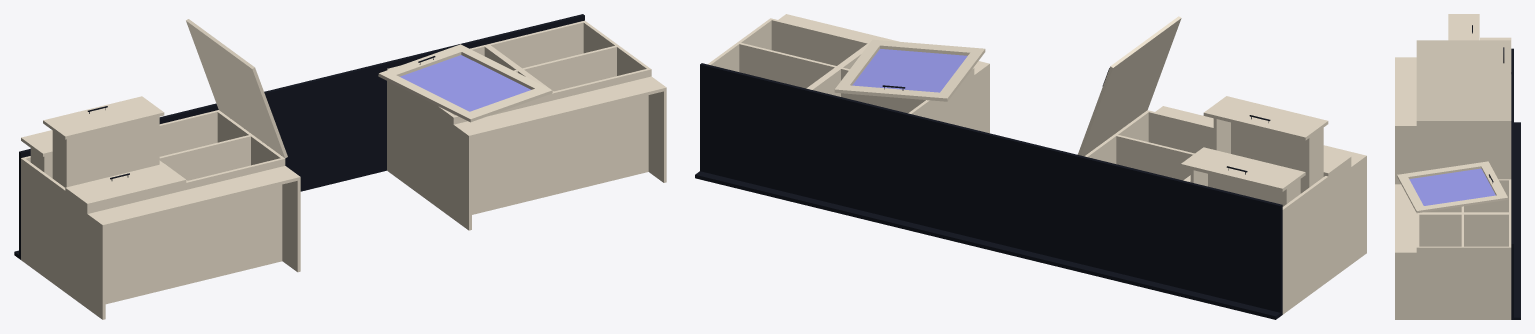
Rendered from cabinetskirik.fbx.
The picture shows the model from 3 angles, left to right: view 1: azimuth 30°, elevation 25°; view 2: azimuth 150°, elevation 25°; view 3: azimuth 270°, elevation 25°; orthographic projection. The views are drawn at different scales.
Parts seen in each view (by area): view 1: Cabinet4, Cabinet1, Cabinet2, Cabinet3, Countertop3, Drawer.001, Cabinet3_Door, Cabinet2_Door, Baseboard1, Baseboard3, Baseboard2, Baseboard4 (+3 smaller); view 2: Countertop3, Countertop1, Countertop4, Countertop2, Cabinet1, Drawer.001, Cabinet3_Door, Cabinet4, Cabinet2_Door, Cabinet2, Drawer.002, Cabinet3 (+5 smaller); view 3: Cabinet4, Cabinet2_Door, Cabinet2, Cabinet3_Door, Baseboard4, Baseboard2, Cabinet3, Countertop3, Drawer.001, Baseboard1, Countertop4, Baseboard3 (+3 smaller).
Boxes of the visible parts, x1,y1,x2,y2 form: Cabinet4: [486, 20, 651, 194]; Cabinet1: [21, 156, 186, 308]; Cabinet2: [159, 110, 285, 284]; Cabinet3: [387, 45, 552, 218]; Countertop3: [264, 38, 485, 191]; Drawer.001: [43, 96, 164, 187]; Cabinet3_Door: [378, 44, 552, 122]; Cabinet2_Door: [186, 19, 287, 158]; Baseboard1: [87, 190, 201, 319]; Baseboard3: [453, 100, 567, 230]; Baseboard2: [187, 166, 300, 272]; Baseboard4: [553, 76, 666, 182]; Countertop3: [797, 88, 1078, 269]; Countertop1: [1174, 180, 1282, 319]; Countertop4: [695, 63, 803, 202]; Countertop2: [1072, 155, 1179, 294]; Cabinet1: [1186, 160, 1351, 314]; Drawer.001: [1203, 96, 1328, 193]; Cabinet3_Door: [834, 39, 985, 101]; Cabinet4: [707, 18, 869, 88]; Cabinet2_Door: [1078, 16, 1181, 156]; Cabinet2: [1084, 110, 1213, 180]; Drawer.002: [1181, 147, 1305, 206]; Cabinet3: [809, 47, 974, 129]; Cabinet4: [1416, 213, 1511, 319]; Cabinet2_Door: [1416, 40, 1510, 120]; Cabinet2: [1416, 87, 1511, 179]; Cabinet3_Door: [1397, 161, 1508, 213]; Baseboard4: [1395, 218, 1416, 319]; Baseboard2: [1395, 91, 1416, 184]; Cabinet3: [1418, 179, 1511, 213]; Countertop3: [1511, 117, 1520, 283]; Drawer.001: [1448, 14, 1479, 40]; Baseboard1: [1395, 57, 1416, 91]; Countertop4: [1511, 209, 1520, 319]; Baseboard3: [1395, 184, 1416, 218].
Size of the model in its own units: 342 by 116 by 93.
